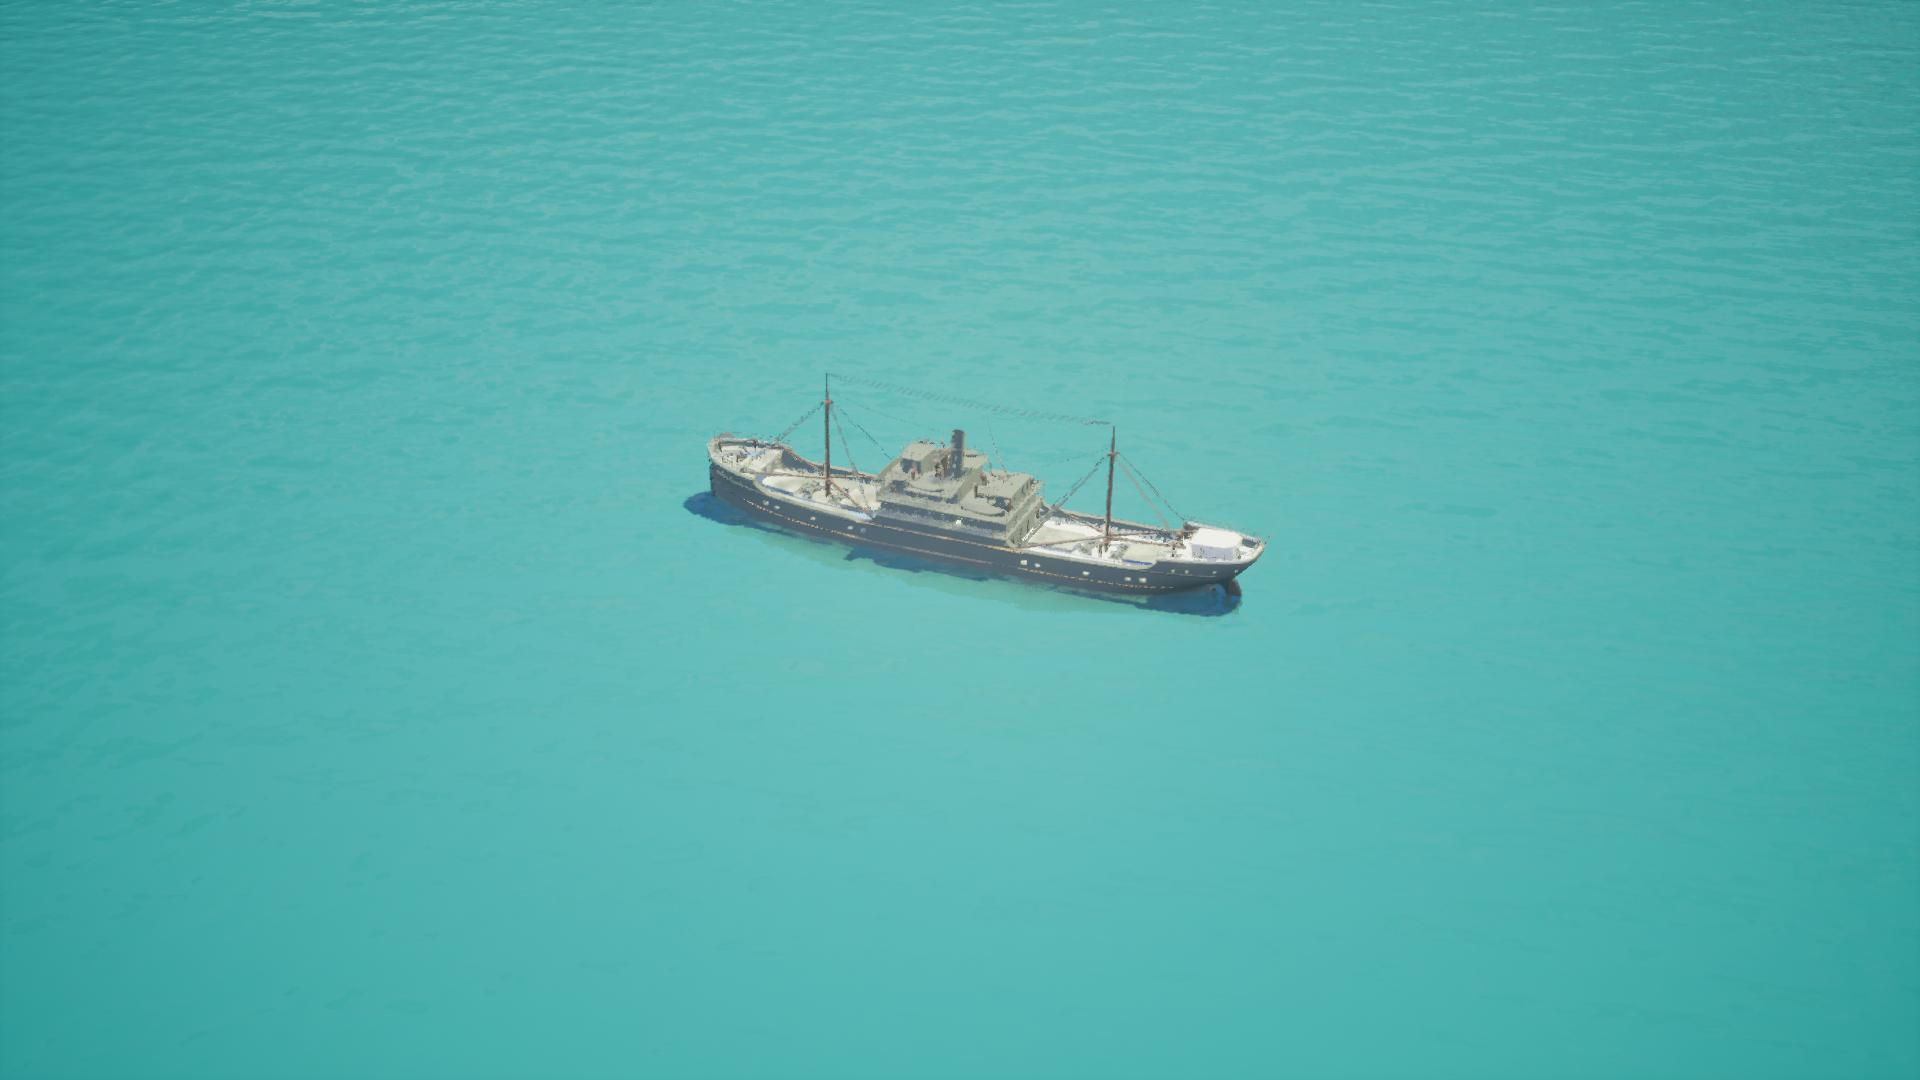Fishing Boat: (702, 384, 1259, 617)
